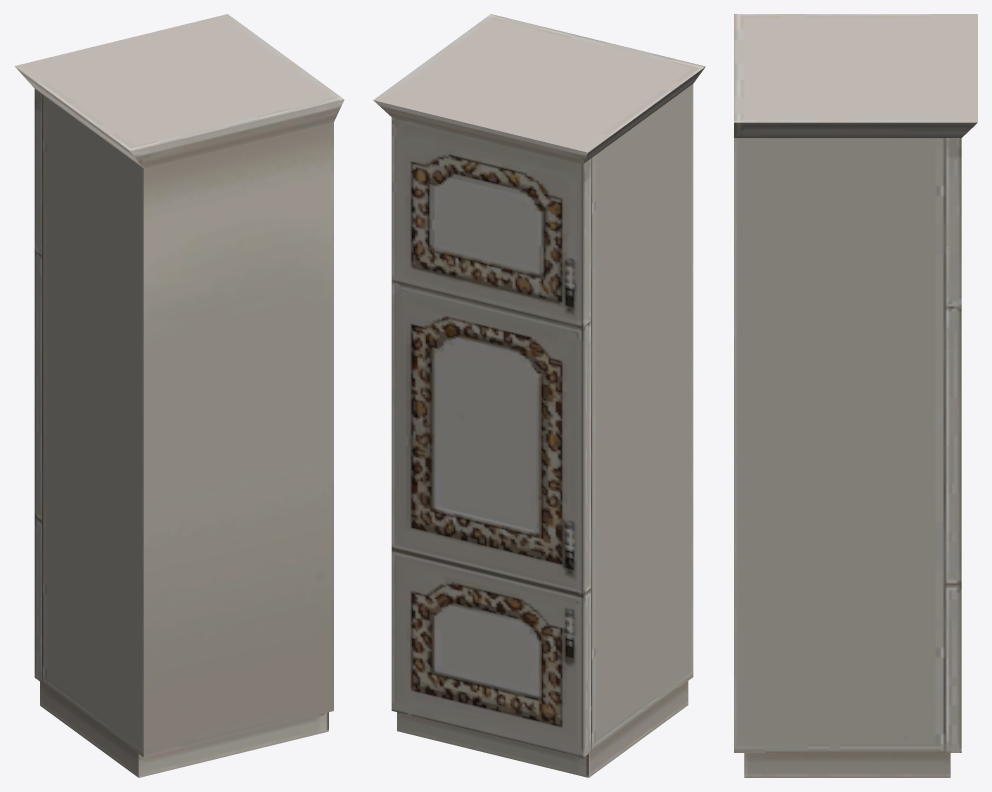
The model's file is furni_0200093.FBX.
3 views of the same model, side by side, from view 1: azimuth 30°, elevation 25°; view 2: azimuth 150°, elevation 25°; view 3: azimuth 270°, elevation 25° (orthographic). The views are drawn at different scales.
Parts seen in each view (by area): view 1: furni_0200093; view 2: furni_0200093; view 3: furni_0200093.
Part boxes in pixels (x1,y1,x2,y2): furni_0200093: (14,14,344,777); furni_0200093: (373,14,705,777); furni_0200093: (734,14,977,777).
Size of the model in its own units: 77.73 by 220 by 73.75.
1 material, 1 textured.
